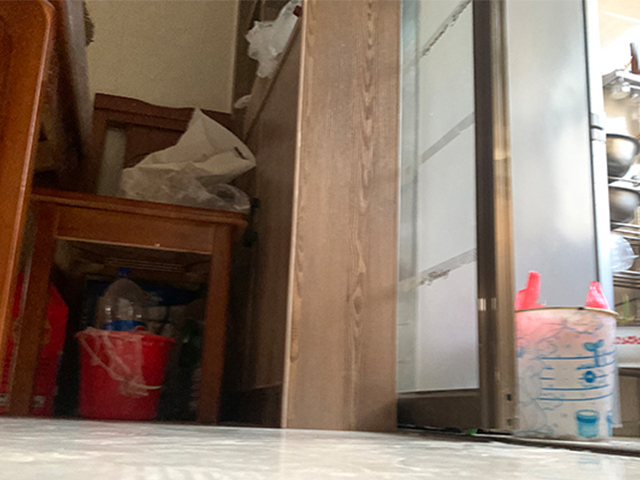stool: (4, 91, 249, 425)
trashcan: (514, 306, 618, 443)
